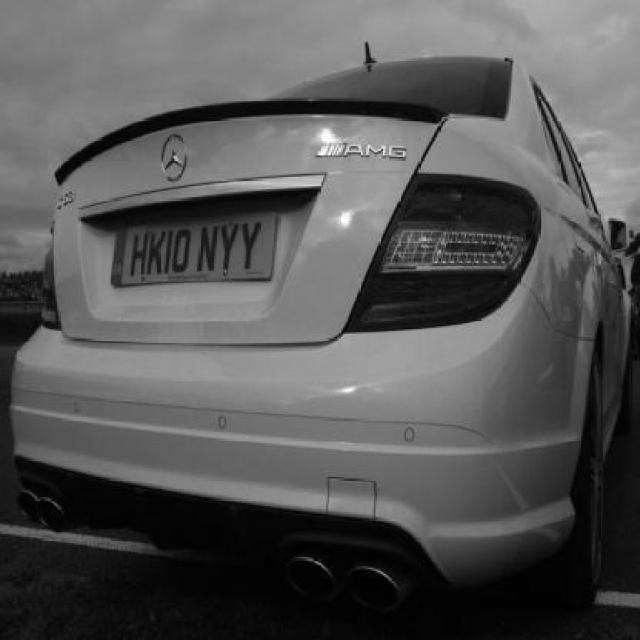car: (12, 56, 640, 624)
license-plate: (111, 208, 280, 286)
